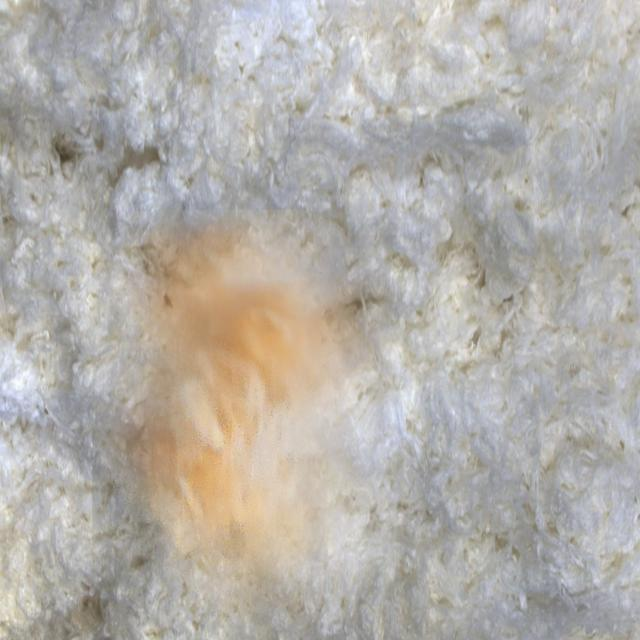dust: (92, 209, 396, 640)
